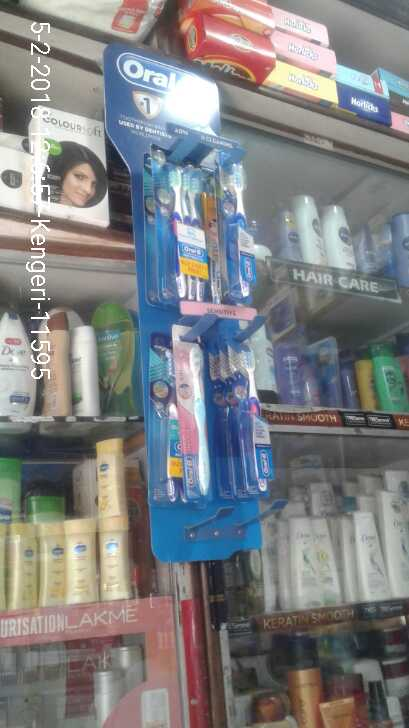oralb: (147, 340, 218, 507), (209, 338, 275, 504), (147, 158, 212, 307), (218, 162, 264, 309)
